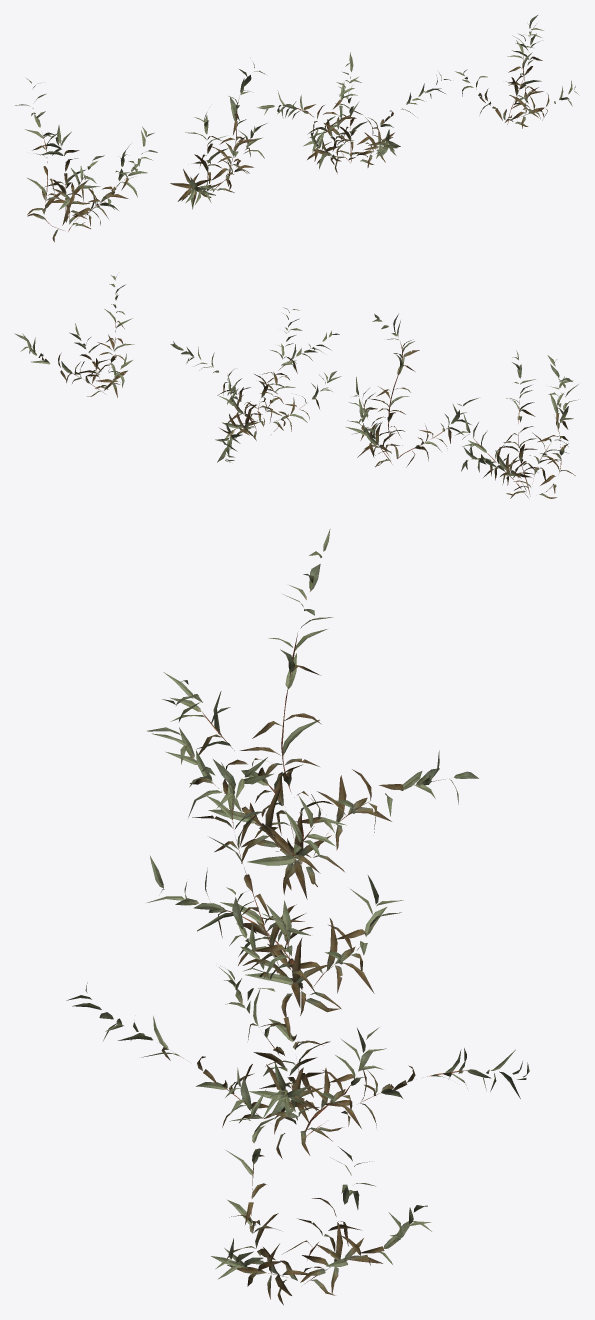
The model's file is shrub_02.glb.
3 views of the same model, one above another, from view 1: azimuth 30°, elevation 25°; view 2: azimuth 150°, elevation 25°; view 3: azimuth 270°, elevation 25° (orthographic). The views are drawn at different scales.
Parts seen in each view (by area): view 1: shrub_02_a; view 2: shrub_02_a; view 3: shrub_02_a.
Boxes of the visible parts, <box> form: shrub_02_a: <box>15,15,579,242</box>; shrub_02_a: <box>14,275,578,498</box>; shrub_02_a: <box>66,529,529,1305</box>.
Bounding box in the file's own units: 6.05 × 1.7 × 2.28.
Materials: 1 (1 with a texture image).
